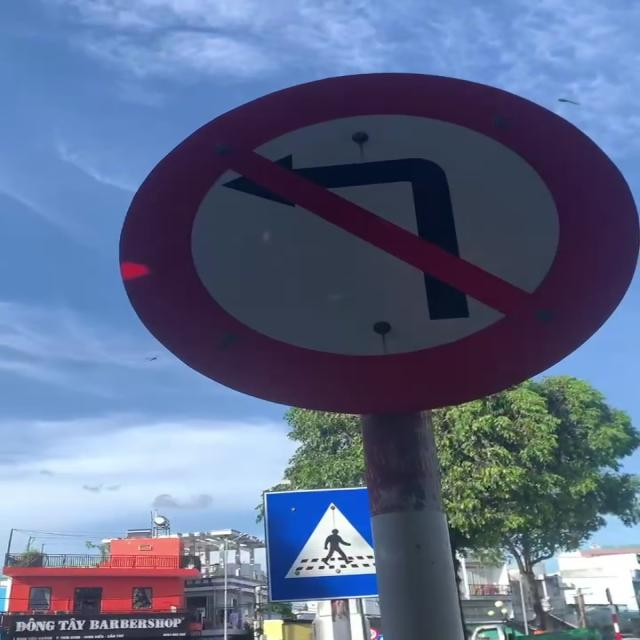Cam_Re_Trai: (119, 70, 638, 427)
